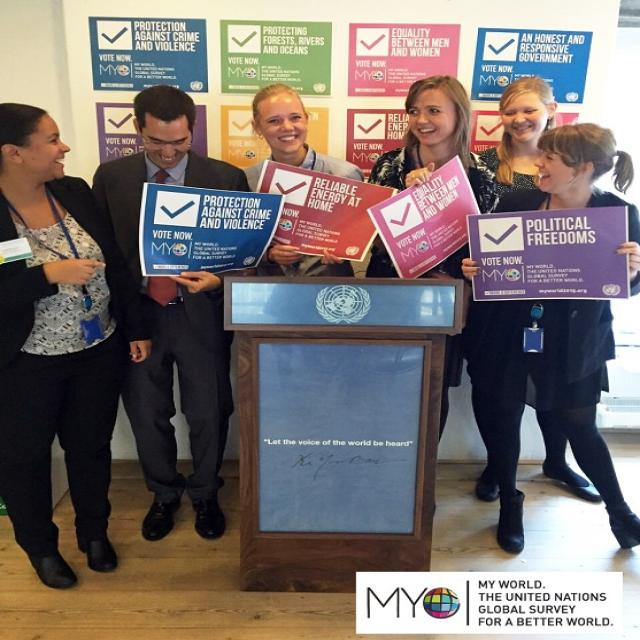body: (458, 117, 639, 555), (90, 82, 256, 543), (0, 104, 154, 592), (463, 75, 610, 508), (364, 72, 501, 505), (242, 81, 368, 276), (258, 279, 421, 416)
